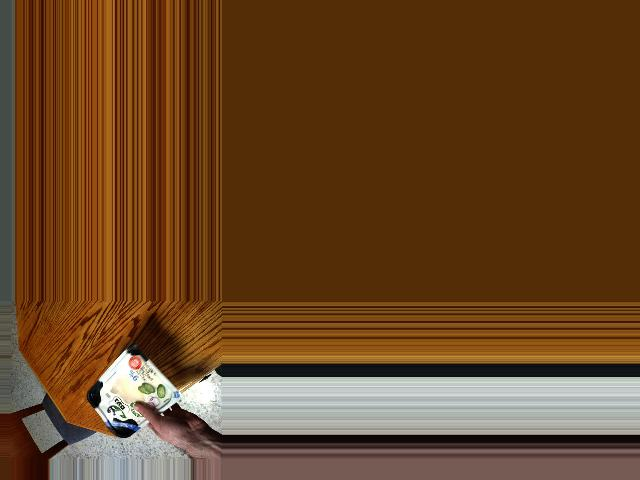cheese: (98, 353, 153, 433)
